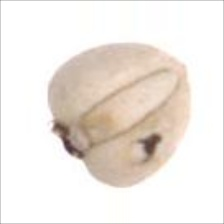L5: (77, 66, 181, 146), (49, 117, 90, 166)
L6: (45, 41, 194, 189)
